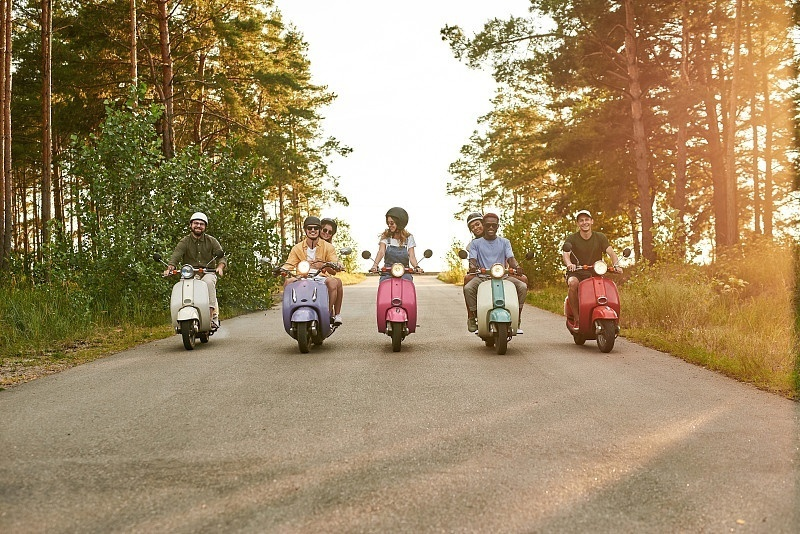non-vehicle: (279, 255, 340, 351), (565, 253, 624, 350), (465, 255, 524, 351), (166, 254, 223, 346), (373, 257, 417, 349)
